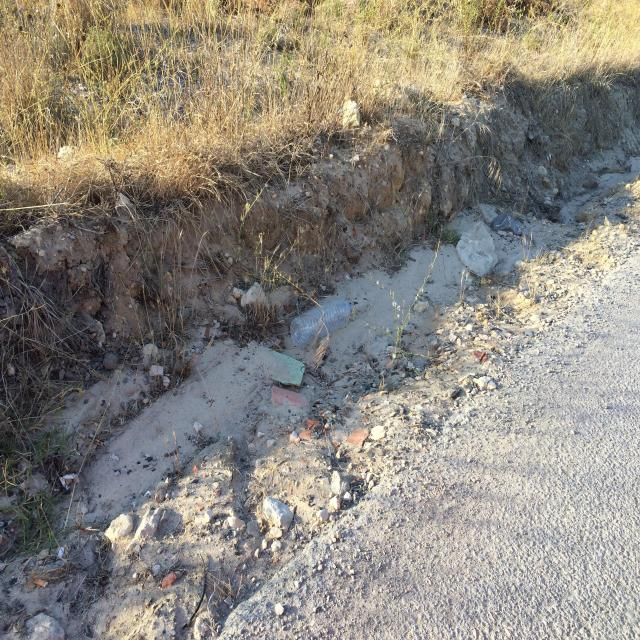litter: (288, 300, 351, 341)
